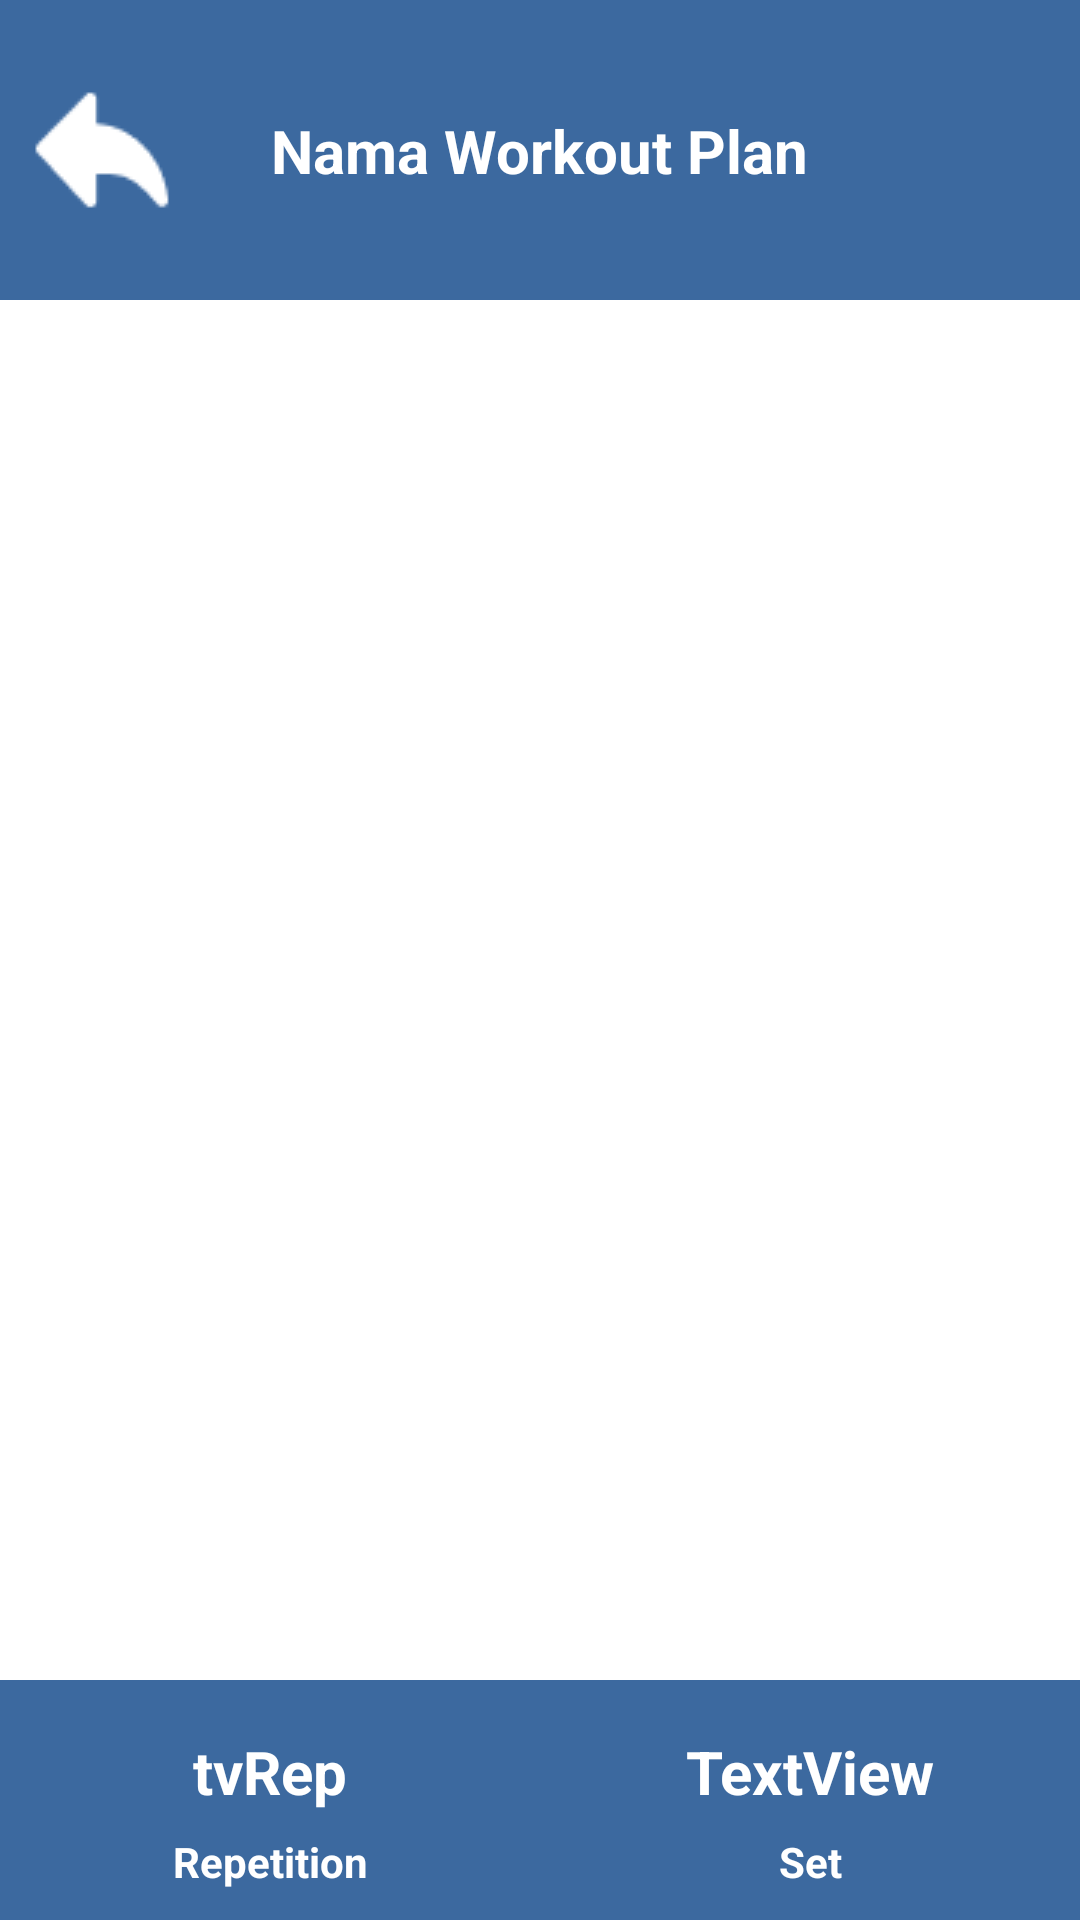

Point at icon controls on the screen. Image size 1080x1920, points as (x,y).
backbutton: (102,150)
